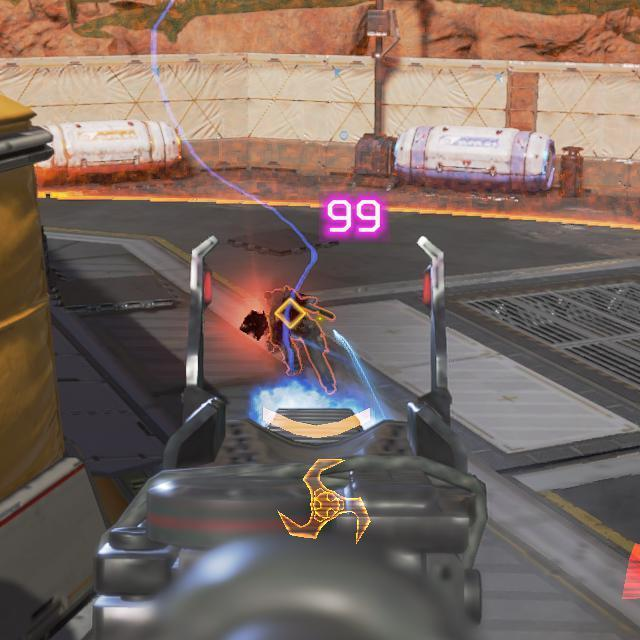avatar: (261, 287, 339, 396)
object: (273, 296, 307, 331)
